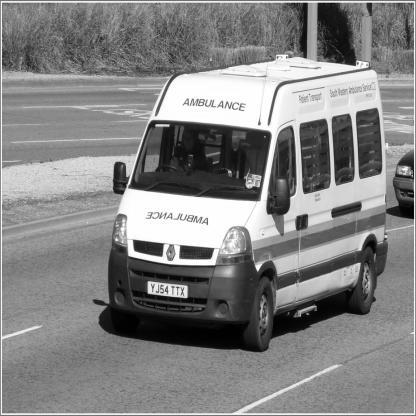ambulance: (89, 48, 394, 353)
